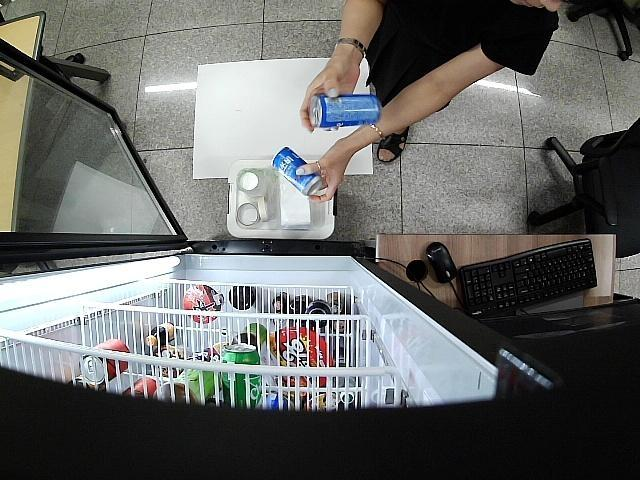15_letsbe: (306, 93, 382, 128), (273, 148, 322, 194)
